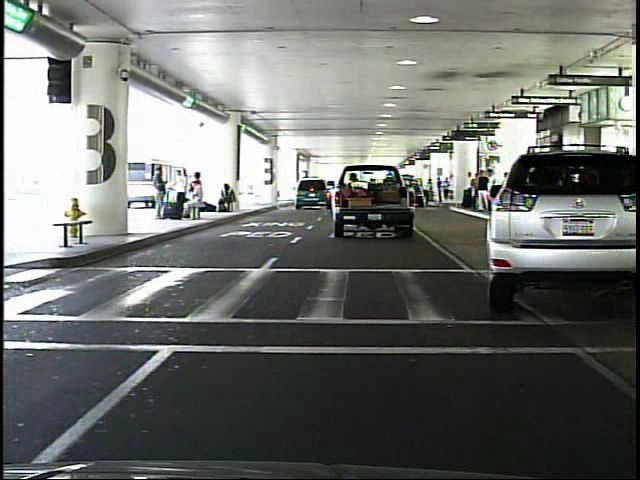person: (150, 165, 171, 221), (475, 167, 492, 214), (434, 174, 445, 205)
